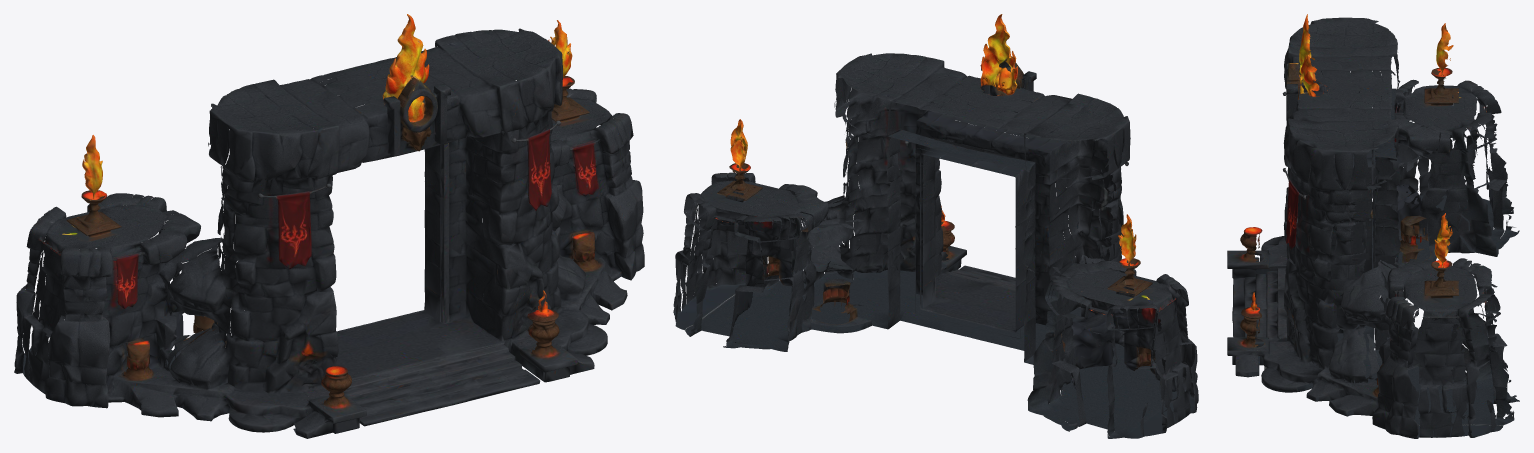
File: volcano_gate.glb
The picture shows the model from 3 angles, left to right: view 1: azimuth 30°, elevation 25°; view 2: azimuth 150°, elevation 25°; view 3: azimuth 270°, elevation 25°; orthographic projection. The views are drawn at different scales.
Bounding box in the file's own units: 1.9 × 1.1 × 0.9599.
1 material, 1 textured.
